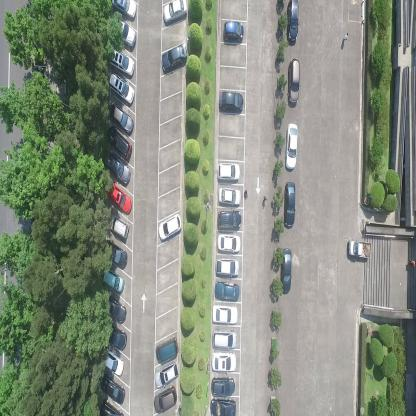car: (104, 150, 131, 185), (108, 98, 133, 134), (106, 124, 131, 160), (108, 72, 135, 105), (106, 181, 132, 214), (112, 17, 137, 51), (108, 47, 136, 77), (161, 42, 187, 74), (286, 55, 301, 110), (101, 372, 126, 405), (102, 293, 127, 325), (158, 210, 182, 243), (284, 122, 299, 173), (105, 240, 128, 271), (154, 360, 179, 388), (155, 336, 179, 364), (154, 384, 178, 412), (104, 345, 125, 377), (107, 214, 130, 243), (104, 322, 127, 351), (162, 0, 188, 25), (283, 180, 296, 229), (285, 0, 299, 45), (279, 246, 292, 294), (348, 236, 372, 262), (102, 268, 126, 294), (218, 91, 245, 114), (212, 304, 238, 326), (110, 0, 138, 20), (212, 328, 237, 350), (214, 280, 240, 301), (211, 352, 237, 373), (210, 376, 235, 397), (218, 187, 242, 208), (215, 258, 240, 278), (218, 161, 242, 181), (217, 210, 241, 230), (210, 398, 236, 416), (223, 20, 244, 42), (218, 234, 241, 254), (100, 400, 124, 416)
